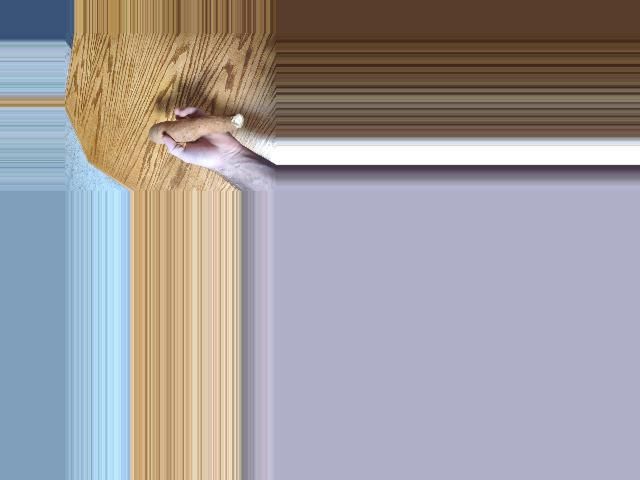sweet_potato: (150, 116, 241, 144)
